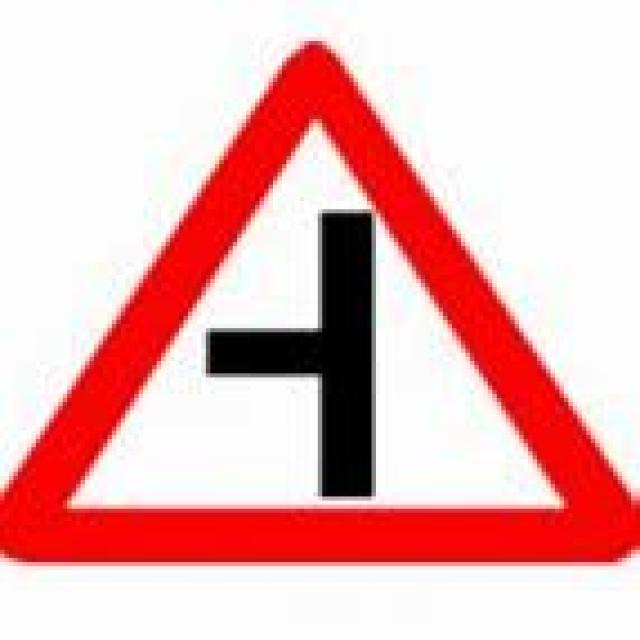SIDE_ROAD_LEFT: (0, 32, 640, 570)
